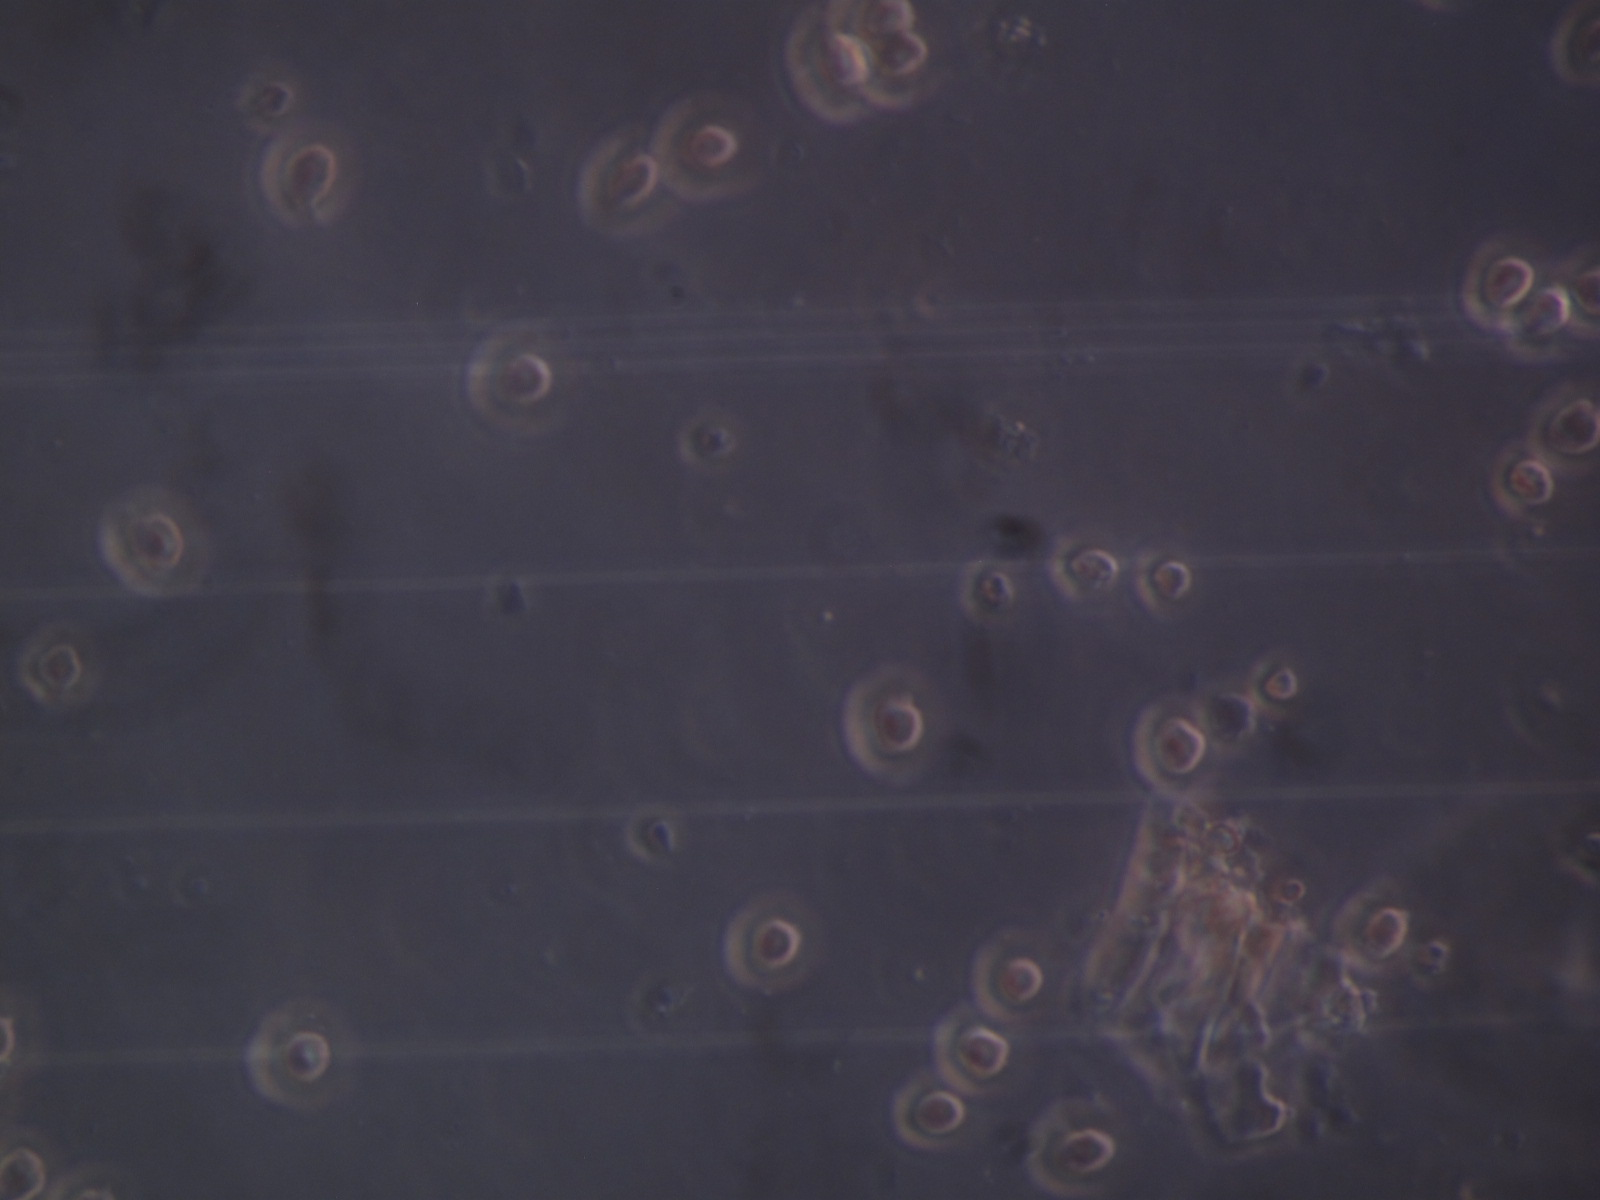hemo: (247, 997, 362, 1111), (465, 318, 569, 439), (654, 91, 765, 202), (843, 662, 939, 787), (106, 485, 209, 600), (577, 130, 682, 242), (787, 4, 876, 122), (260, 124, 362, 224), (724, 887, 815, 991), (1027, 1095, 1116, 1199), (849, 30, 950, 108), (1134, 698, 1213, 797), (16, 619, 100, 711), (934, 1000, 1010, 1098), (1458, 242, 1538, 332), (971, 926, 1042, 1026), (1528, 384, 1600, 474), (1334, 890, 1406, 977), (1506, 274, 1570, 366), (891, 1071, 966, 1150), (1194, 671, 1259, 760), (1489, 442, 1552, 517), (1, 1124, 62, 1200), (1048, 533, 1117, 597), (1550, 1, 1600, 89), (957, 555, 1017, 628), (825, 1, 922, 44), (1134, 550, 1191, 614), (1254, 655, 1298, 722)
